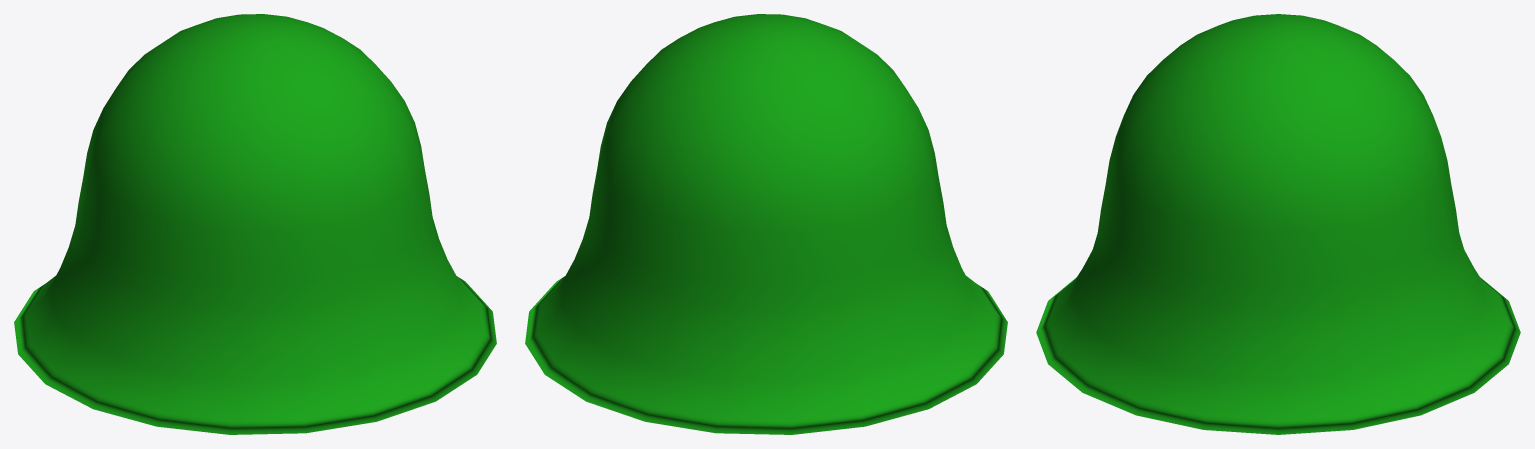
The model's file is Hill v1.fbx.
3 views of the same model, side by side, from view 1: azimuth 30°, elevation 25°; view 2: azimuth 150°, elevation 25°; view 3: azimuth 270°, elevation 25° (orthographic).
Visible parts, largest first — view 1: pSphere1; view 2: pSphere1; view 3: pSphere1.
Part boxes in pixels (<box>): pSphere1: <box>14,14,496,434</box>; pSphere1: <box>525,14,1007,434</box>; pSphere1: <box>1036,14,1520,434</box>.
Bounding box in the file's own units: 2.65 × 1.87 × 2.65.
